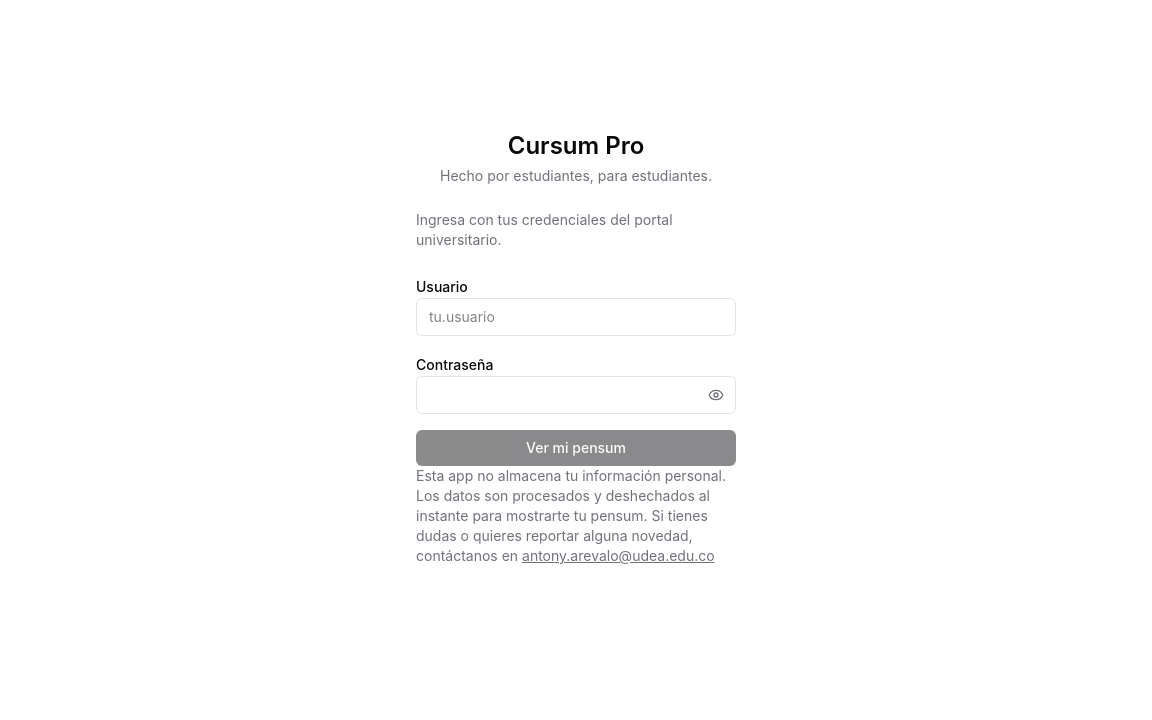
Test: App › pinta el dashboard completo con el expediente recibido
In the field with placeholder "tu.usuario": (576, 317) [416,298,736,336], type "ana.prueba"
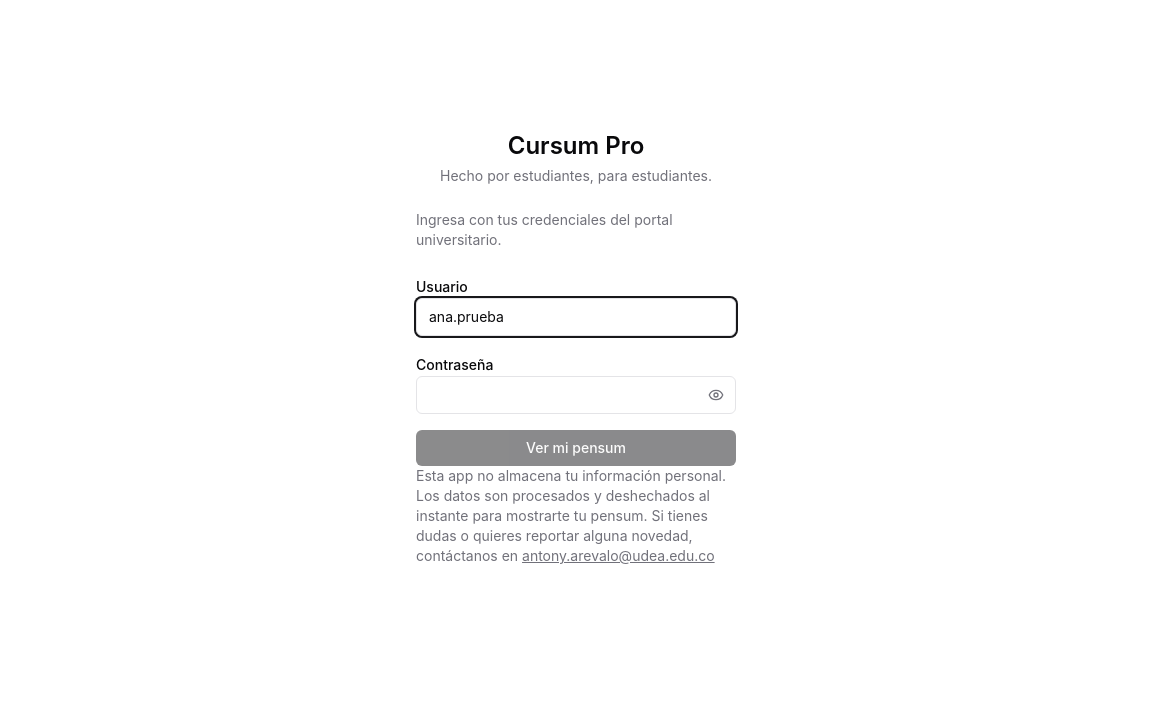
In the password field: (576, 395) [416,376,736,414], type "Secreta123"
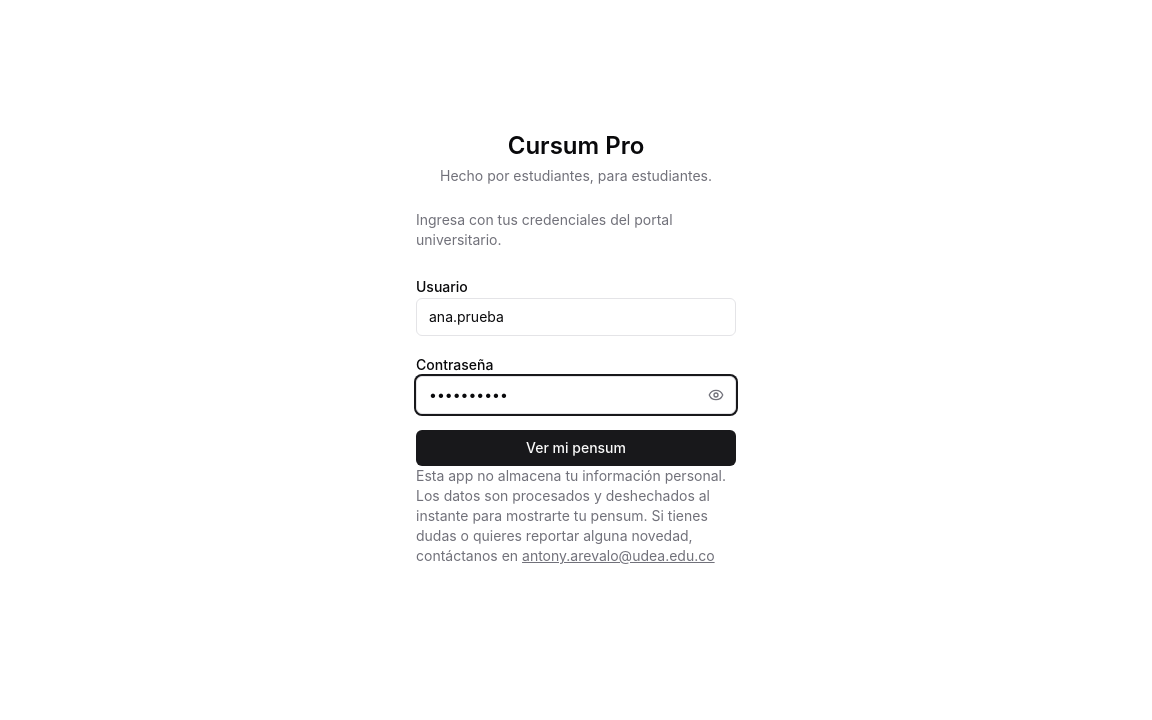
Click the button "Ver mi pensum": (576, 448) [416,430,736,466]
(page scrolled)
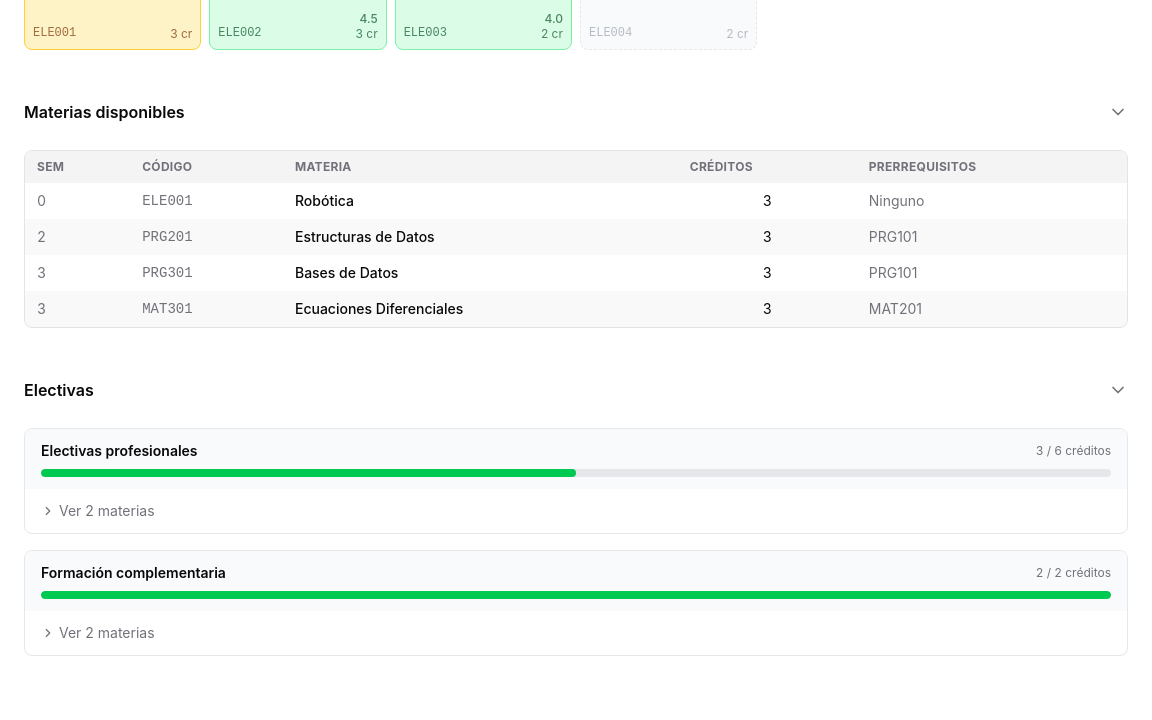
Check: the headings read "Electivas profesionales", "Formación complementaria", in this order, box [41,441,198,461]; [41,563,226,583]
Check: the text "3 / 6 créditos" is shown, box [1036,443,1111,459]
Check: the text "2 / 2 créditos" is shown, box [1036,565,1111,581]
